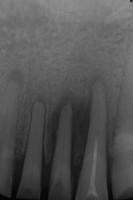Dental Caries: (46, 74, 108, 167)
Furcation Involvement: (9, 67, 25, 92), (30, 96, 47, 118)
